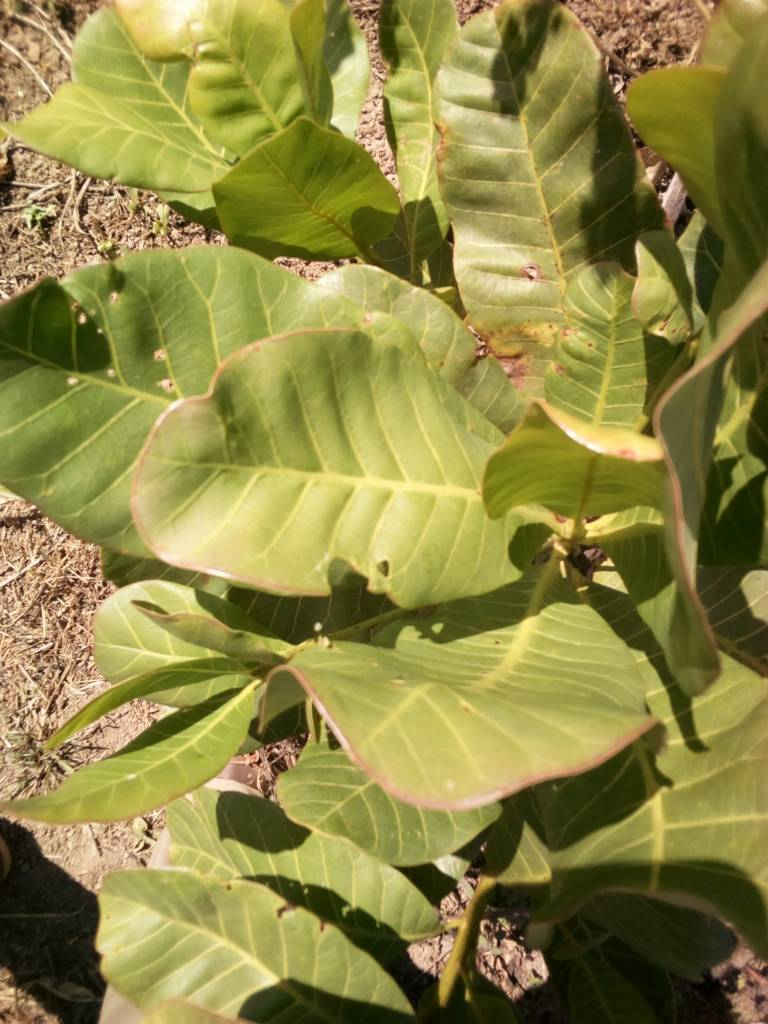Anthracnose: (443, 1, 640, 403)
